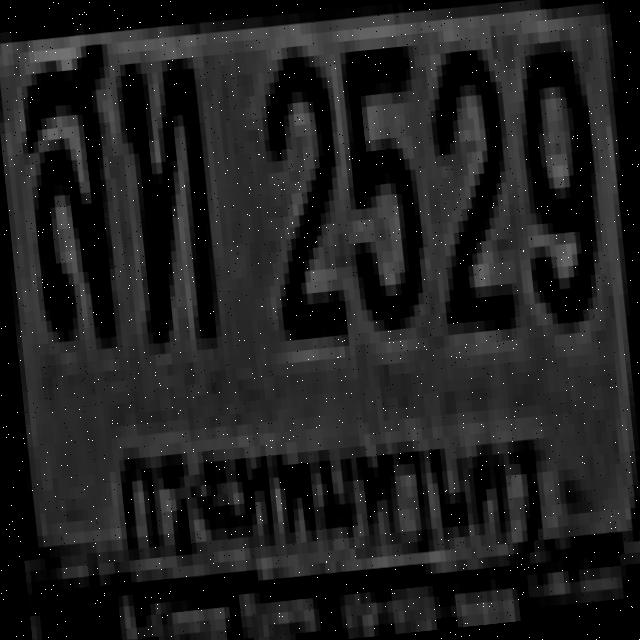2: (415, 37, 517, 324), (250, 44, 346, 330)
32ThorThaHan: (114, 52, 215, 338)
49SorSuea: (12, 34, 126, 344)
5: (328, 35, 430, 322)
9: (506, 28, 603, 314)
Bangkok: (103, 387, 561, 600)
